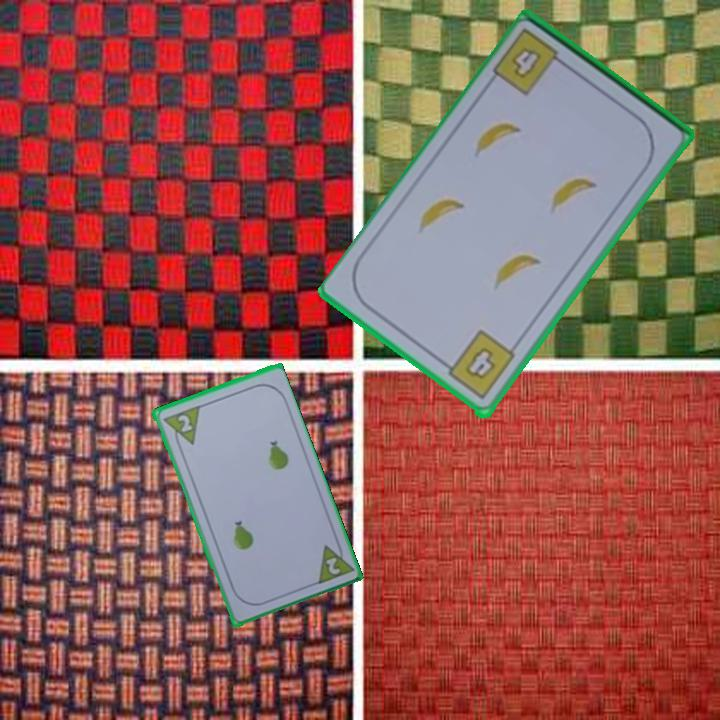2p: (312, 536, 355, 587), (174, 411, 195, 435)
4b: (438, 327, 518, 403), (508, 44, 541, 82)
